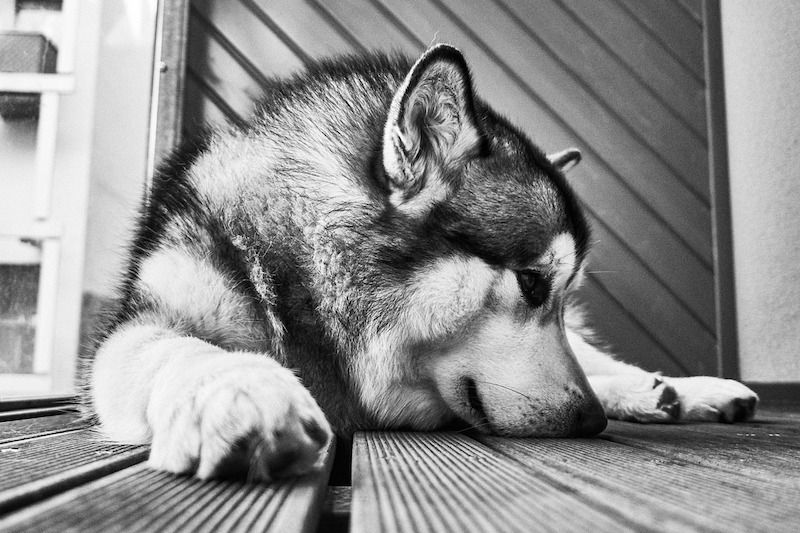husky: (76, 41, 694, 464)
